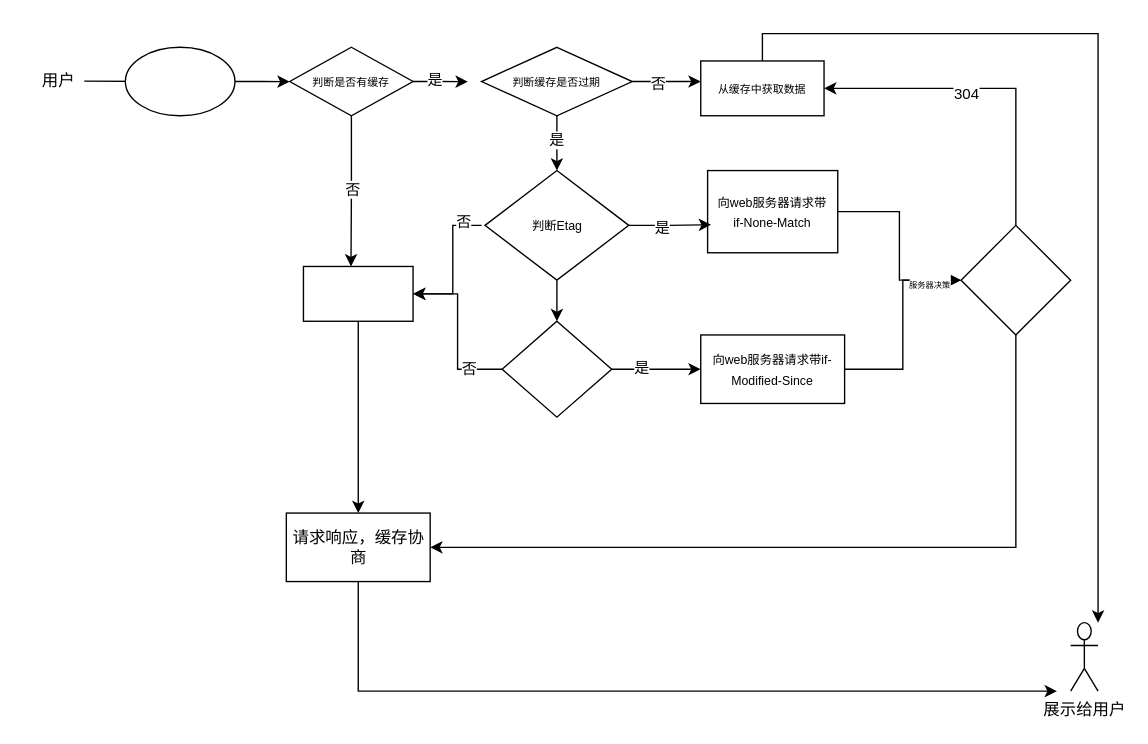
Some shapes in this 1148 by 744 pixel diagram are drawn without their labels. The shapes that lost their labels are listed below. From the top down, each one's centre as x and y in pixels, then its label:
At point (179, 81): "游览器发送请求".
At point (357, 293): "向web服务器发送请求".
At point (1015, 279): "200or 304?".
At point (556, 368): "判断Last-Modified".
